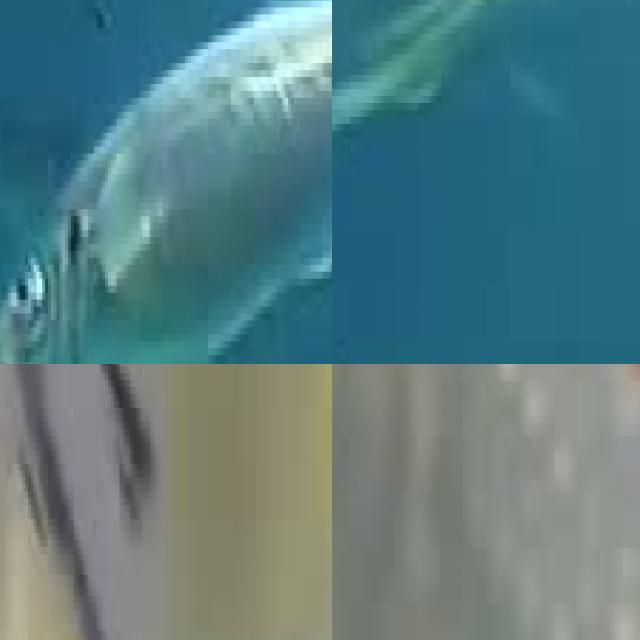fish: (0, 0, 332, 364), (0, 364, 332, 640)
